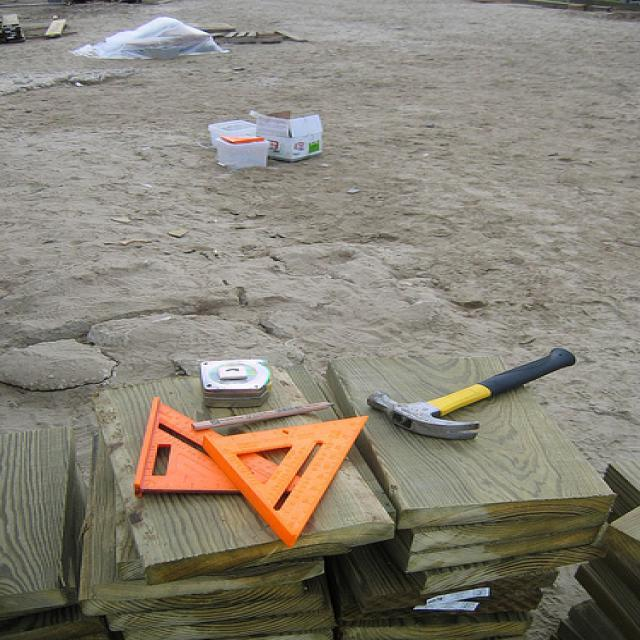hammer: (363, 344, 582, 446)
